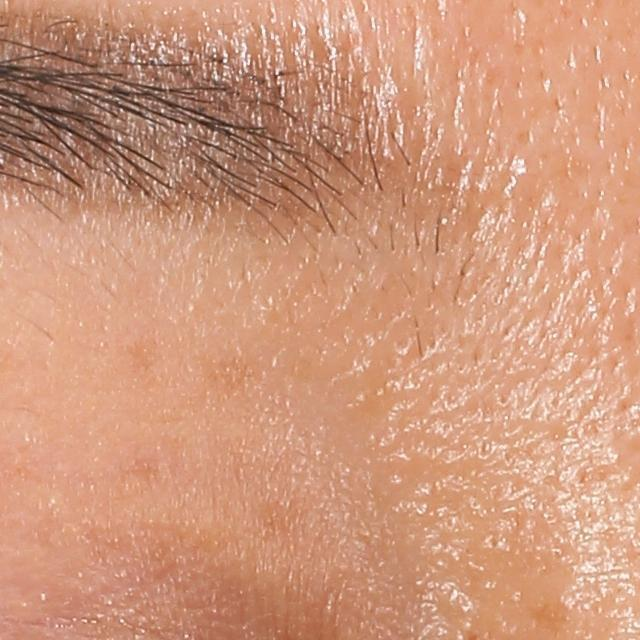melasma: (526, 601, 570, 635)
